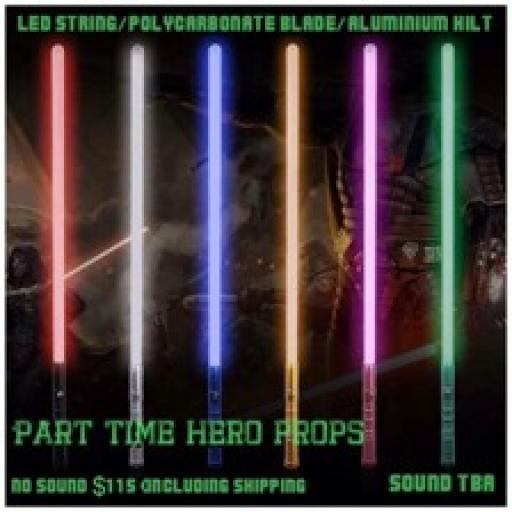lightsaber: (434, 40, 460, 468), (281, 42, 304, 470), (360, 43, 379, 466), (127, 42, 145, 472), (206, 41, 224, 468)
sith saber: (48, 43, 72, 471)
